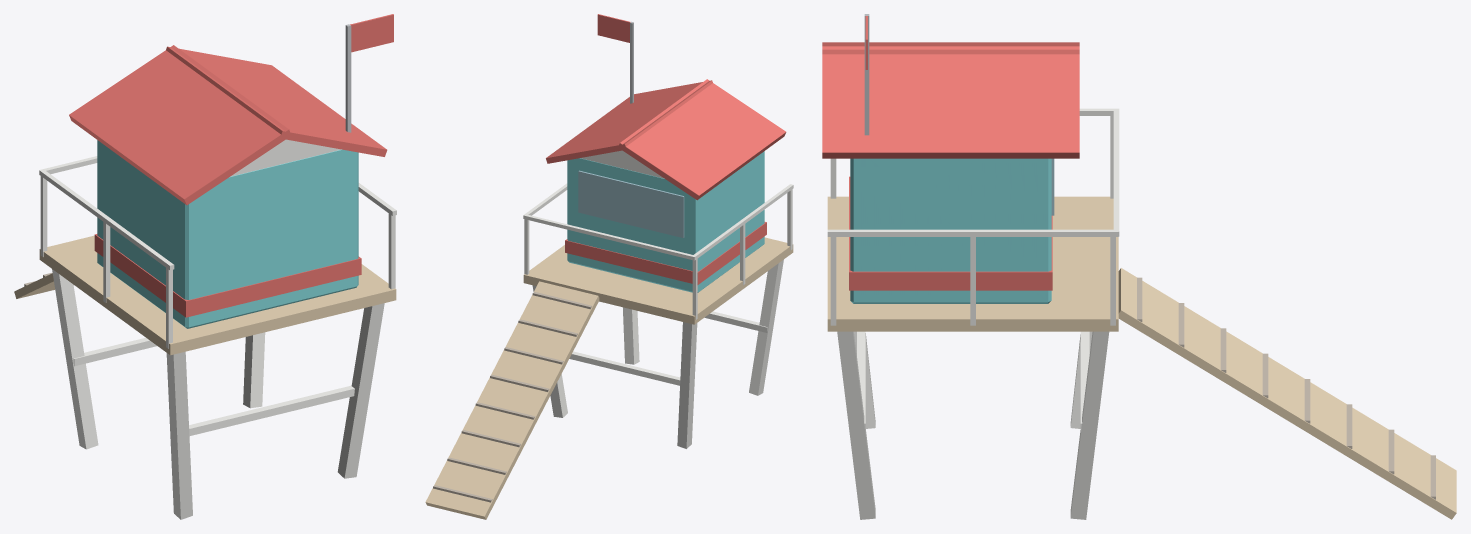
Rendered from lifeguard_tower.glb.
3 renders of one model, left to right at view 1: azimuth 30°, elevation 25°; view 2: azimuth 150°, elevation 25°; view 3: azimuth 270°, elevation 25°, orthographic. The views are drawn at different scales.
Parts seen in each view (by area): view 1: body; view 2: body; view 3: body.
Boxes of the visible parts, x1,y1,x2,y2 form: body: [14, 14, 396, 519]; body: [425, 14, 793, 519]; body: [822, 14, 1456, 519].
Bounding box in the file's own units: 2.77 × 4.95 × 5.67.
